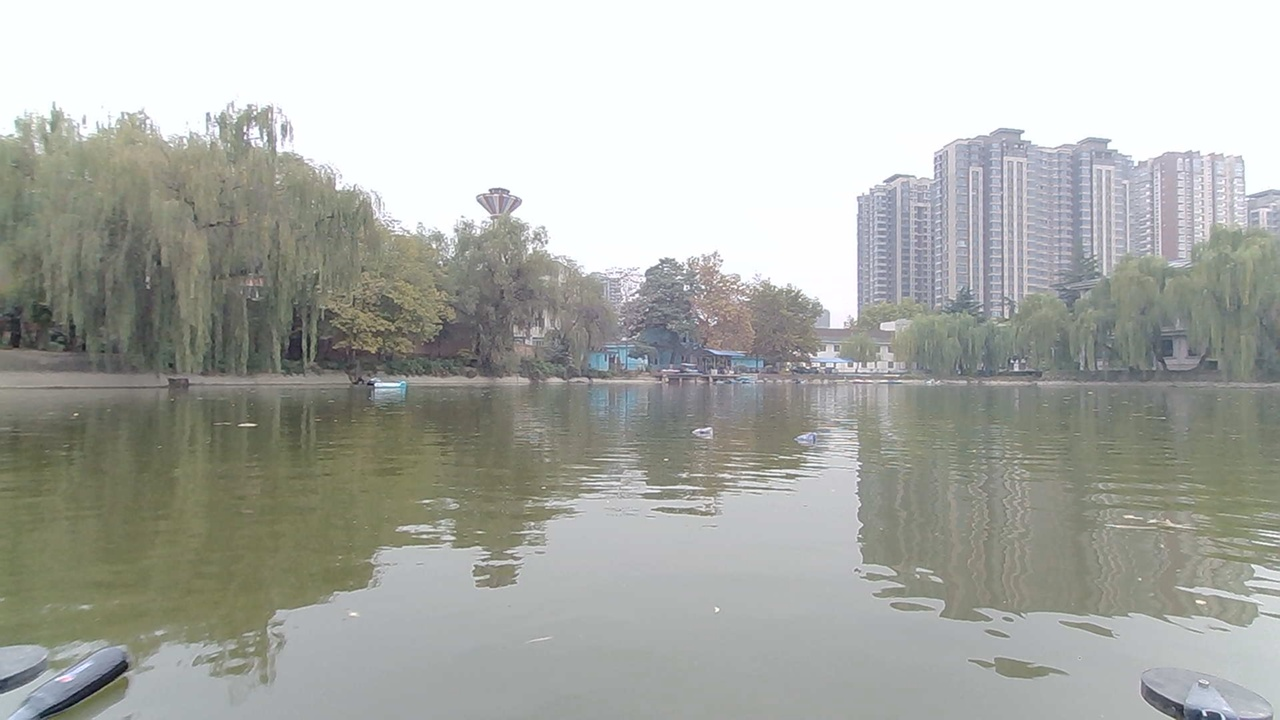bottle: (33, 619, 172, 720), (684, 415, 723, 441), (797, 430, 830, 447)
